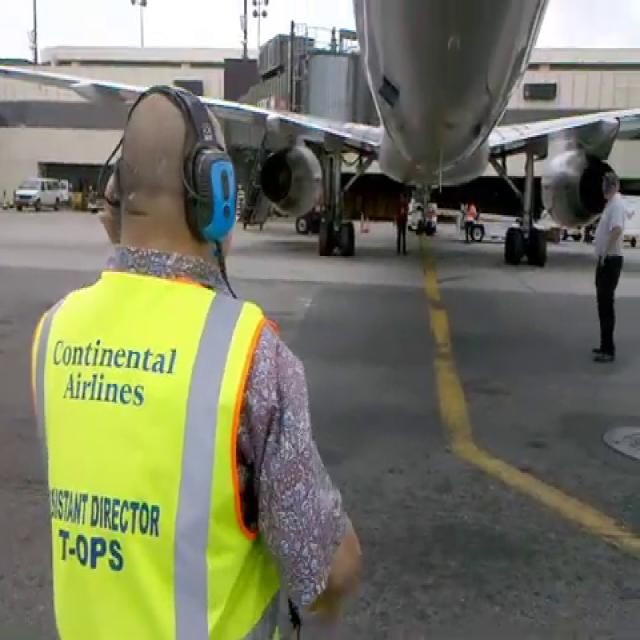earmuff: (179, 137, 241, 245)
